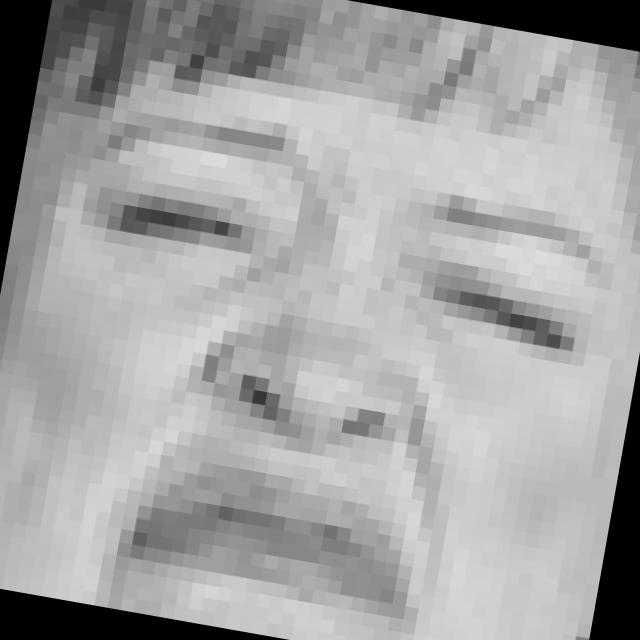disgust: (8, 91, 622, 640)
